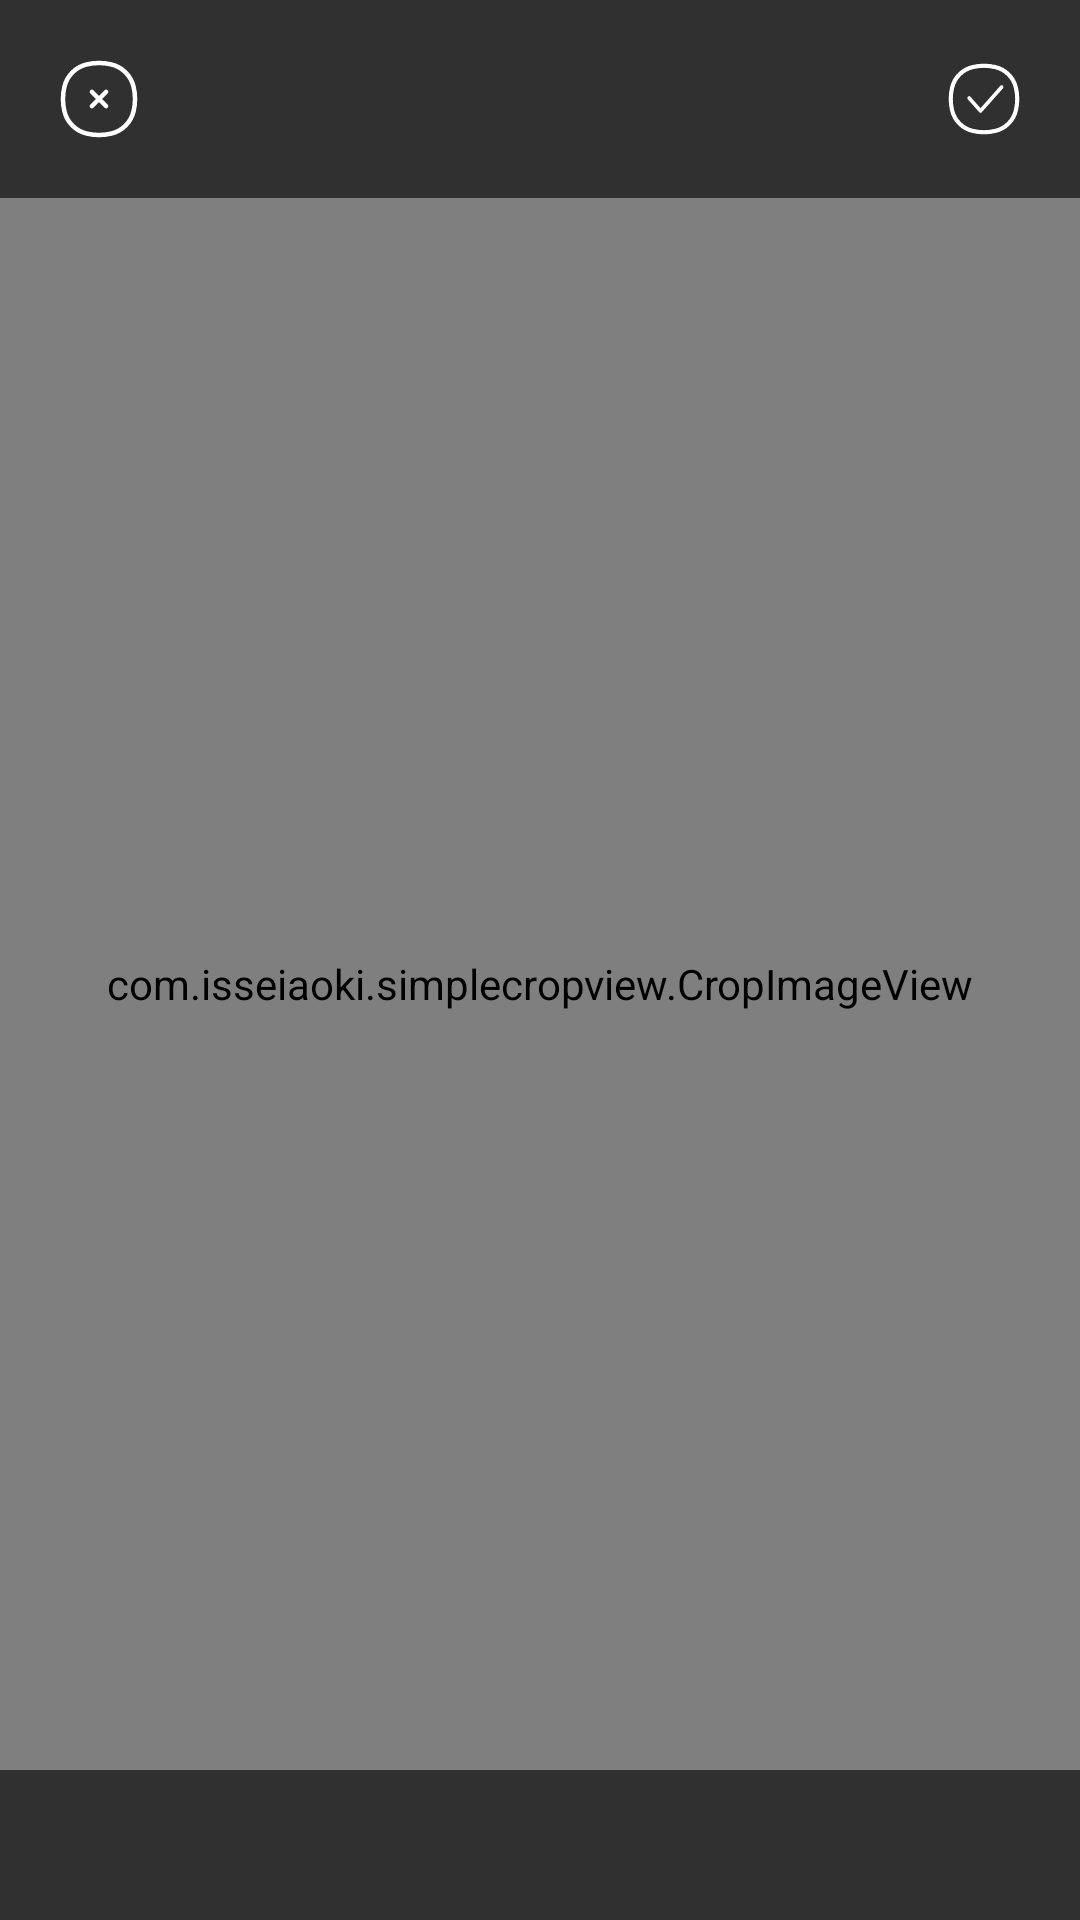

Icons on this 1080px x 1920px Android screen, each with its box as (x1, y1, x2, y2):
close: (60, 60, 138, 138)
done: (948, 63, 1020, 135)
